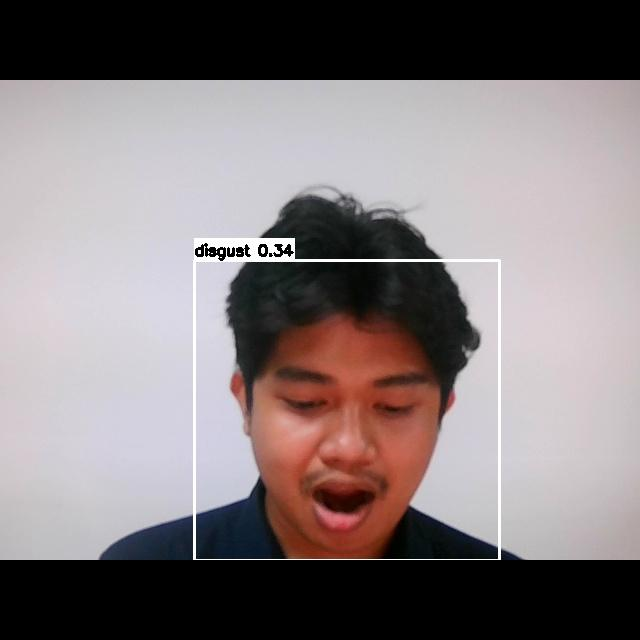Surprised: (256, 348, 449, 548)
